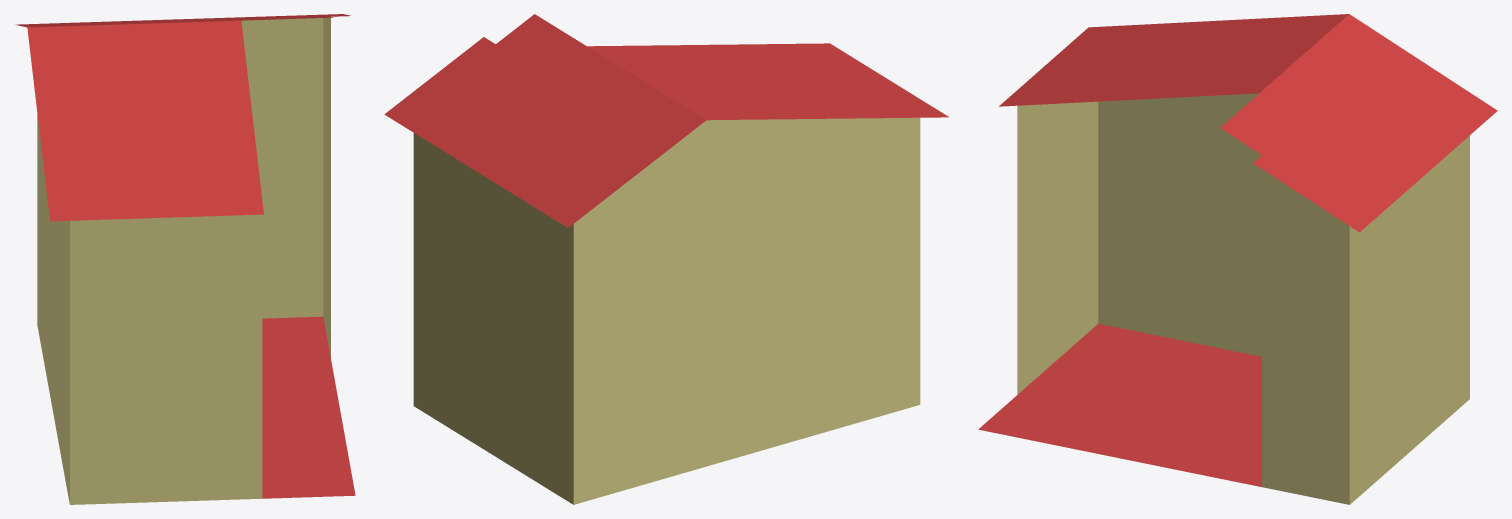
3 renders of one model, left to right at view 1: azimuth 30°, elevation 25°; view 2: azimuth 150°, elevation 25°; view 3: azimuth 270°, elevation 25°, orthographic. The views are drawn at different scales.
Bounding box in the file's own units: 11.6 × 12.44 × 9.27.
